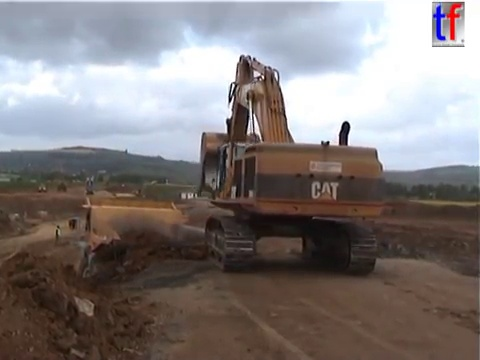excavator: (192, 52, 387, 277)
truck: (66, 192, 224, 291), (100, 194, 196, 243), (56, 181, 67, 192), (36, 182, 46, 192)
worker: (53, 222, 62, 244)
